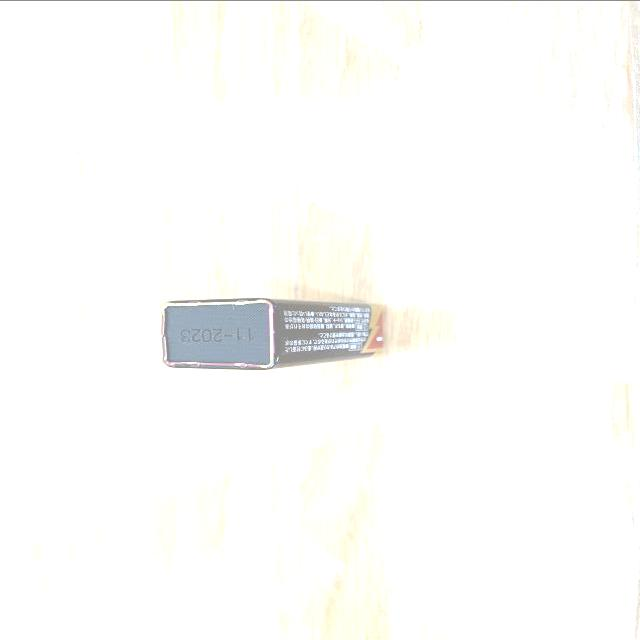9V: (159, 297, 388, 370)
